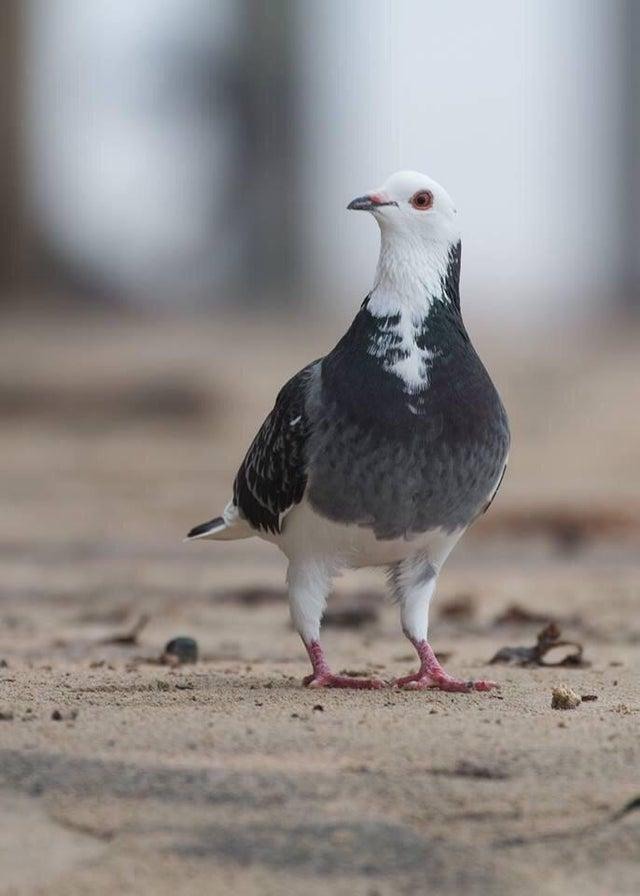Flying Rat: (175, 166, 507, 766)
